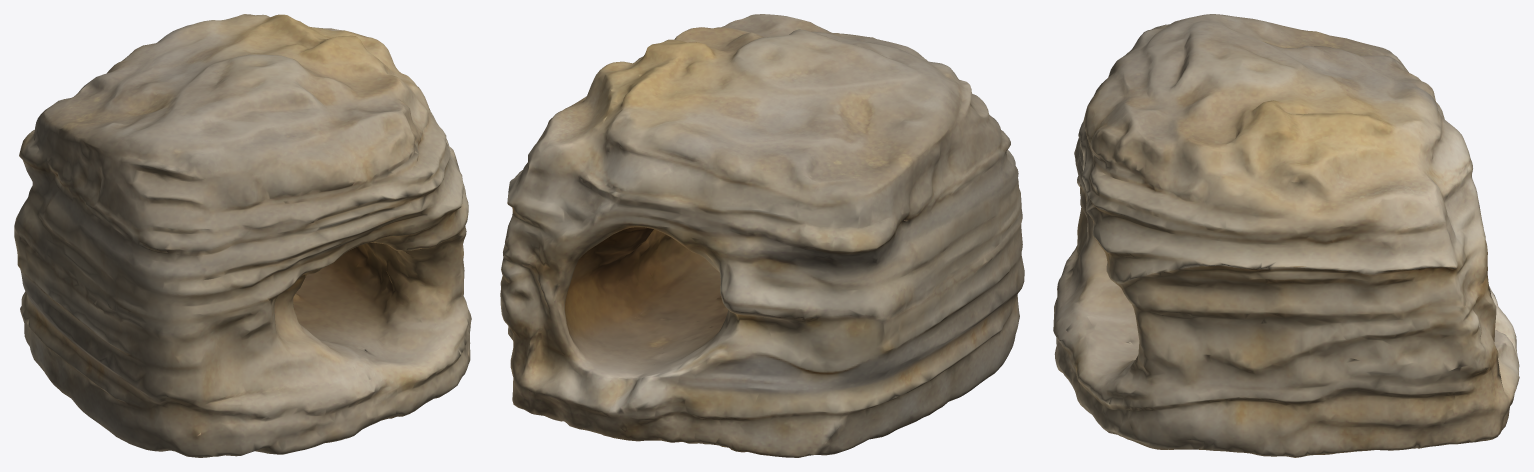
The picture shows the model from 3 angles, left to right: view 1: azimuth 30°, elevation 25°; view 2: azimuth 150°, elevation 25°; view 3: azimuth 270°, elevation 25°; orthographic projection.
Visible parts, largest first — view 1: geometry_0; view 2: geometry_0; view 3: geometry_0.
Boxes of the visible parts, <box> form: geometry_0: <box>14,14,471,457</box>; geometry_0: <box>500,14,1024,457</box>; geometry_0: <box>1053,14,1519,457</box>.
Size of the model in its own units: 4.68 by 3.78 by 5.
Materials: 1 (1 with a texture image).
